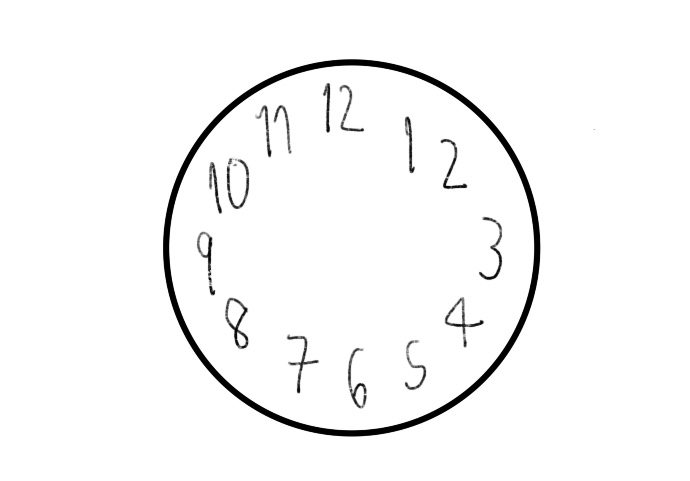eight: (222, 296, 251, 349)
eleven: (254, 100, 294, 158)
five: (402, 338, 429, 389)
four: (444, 294, 483, 349)
nine: (192, 231, 220, 294)
one: (396, 111, 417, 174)
seven: (287, 329, 318, 396)
six: (345, 344, 369, 409)
ten: (207, 158, 250, 215)
three: (479, 210, 502, 282)
twelve: (320, 79, 366, 136)
two: (438, 137, 466, 191)
